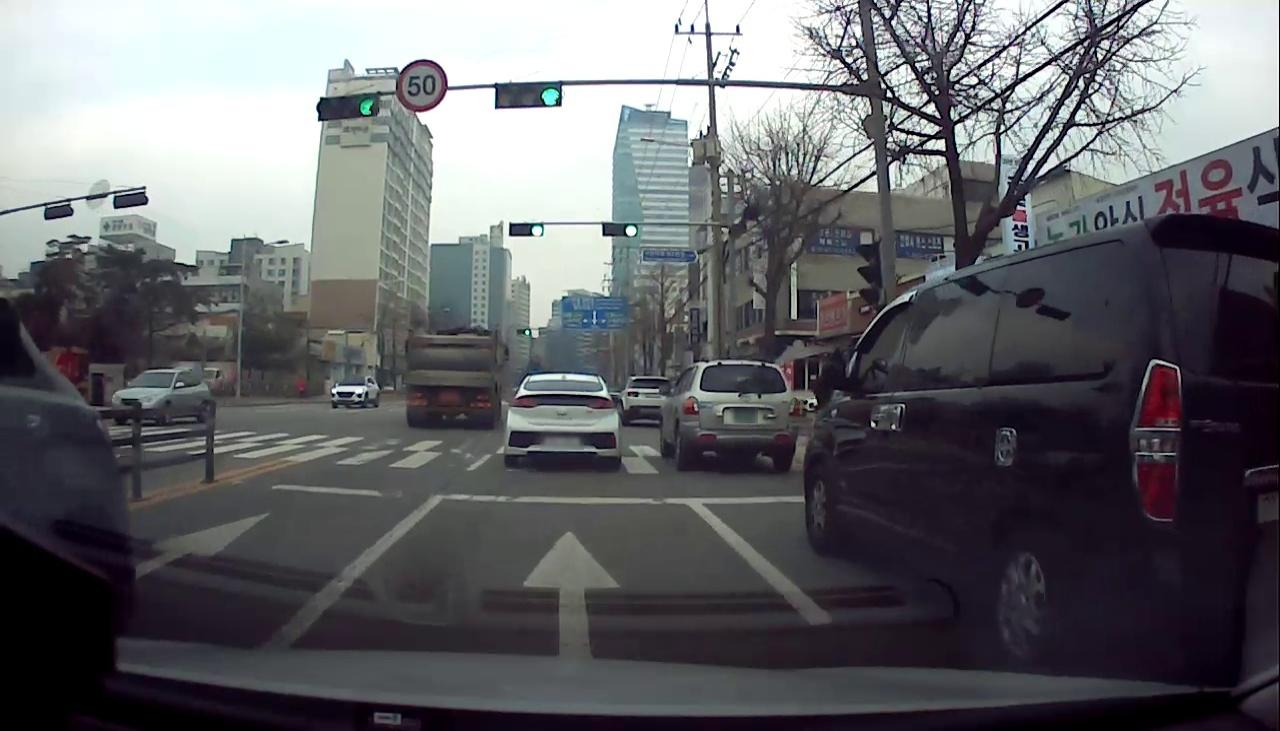Green Light: (539, 83, 562, 107), (354, 95, 379, 116), (622, 223, 640, 237), (529, 221, 544, 237), (524, 329, 531, 335)
